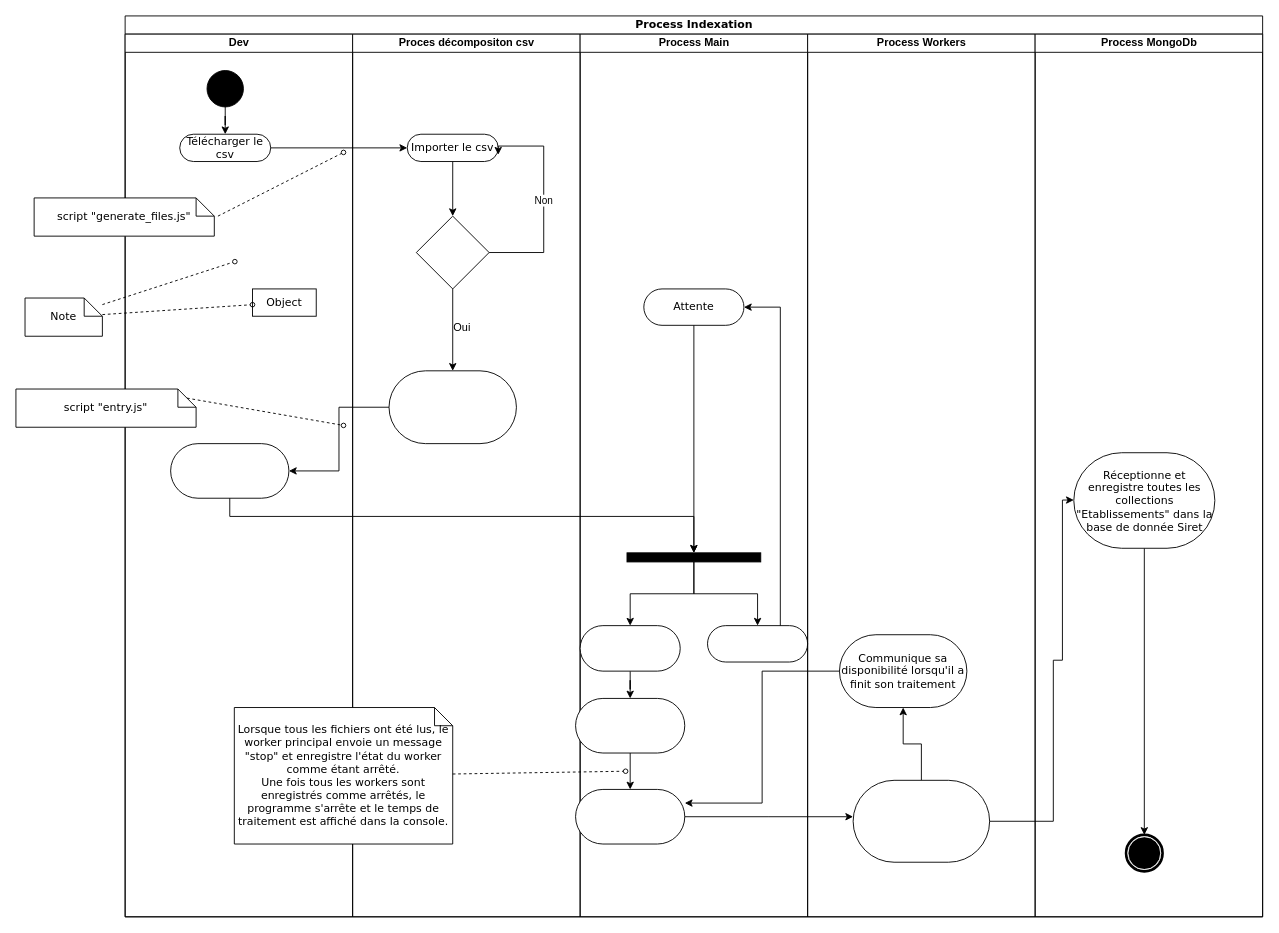
The diagram is 1279 pixels wide and 933 high, and some of its shapes have lost their labels. Each missing label, with the centre of its shape:
"Communiquation du nom du prochain fichier à traiter aux workers" belongs at point 630,816.
"Demarre le script pour lancer le Process main" belongs at point 229,470.
"Démarre / re-demarre les workers" belongs at point 629,648.
"Enregistre dans la bdd le contenu formaté du fichier qui lui est attribué" belongs at point 921,820.
"Est ce que le fichier existe" belongs at point 452,252.
"Fragmentation en petits fichiers csv dans le dossier ./output" belongs at point 452,407.
"Lectures du nom de tous les fichiers des csv" belongs at point 630,725.
"Mettre en pause les workers" belongs at point 757,643.
